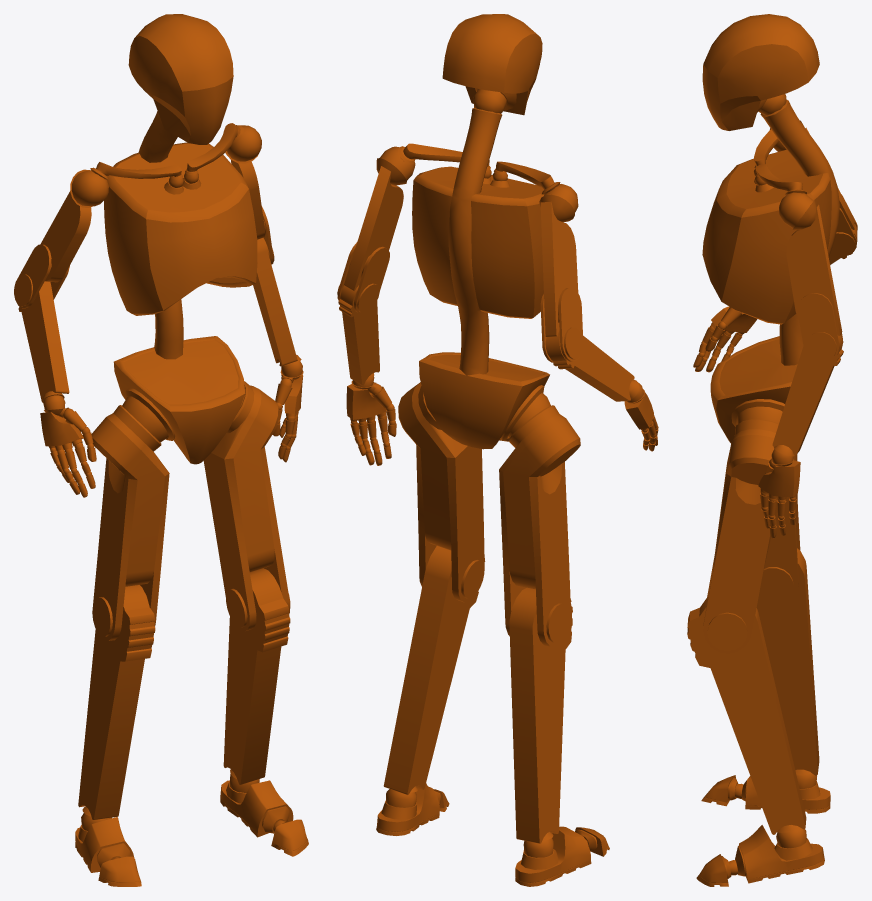
File: RobotAnimacja_000002.obj
3 renders of one model, left to right at view 1: azimuth 30°, elevation 25°; view 2: azimuth 150°, elevation 25°; view 3: azimuth 270°, elevation 25°, orthographic.
Parts seen in each view (by area): view 1: free3dmodel.001; view 2: free3dmodel.001; view 3: free3dmodel.001.
Boxes of the visible parts, x1,y1,x2,y2 form: free3dmodel.001: (14,14,308,886); free3dmodel.001: (337,14,658,886); free3dmodel.001: (687,14,857,886).
Bounding box in the file's own units: 2.11 × 6.03 × 1.13.
